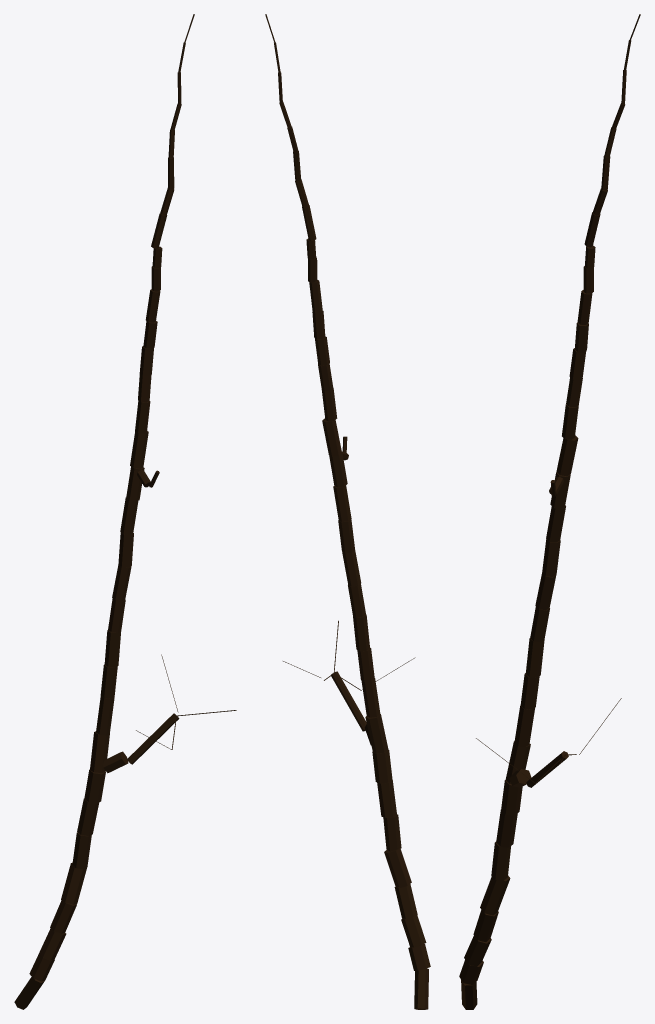
File: 2022_tree_544_no_leaf.obj
3 views of the same model, side by side, from view 1: azimuth 30°, elevation 25°; view 2: azimuth 150°, elevation 25°; view 3: azimuth 330°, elevation 25° (orthographic). The views are drawn at different scales.
Parts seen in each view (by area): view 1: TrunkAndBranches; view 2: TrunkAndBranches; view 3: TrunkAndBranches.
Boxes of the visible parts, x1,y1,x2,y2 form: TrunkAndBranches: (14,14,236,1009); TrunkAndBranches: (265,14,430,1009); TrunkAndBranches: (459,14,640,1009).
Size of the model in its own units: 1.24 by 6.67 by 0.8754.
